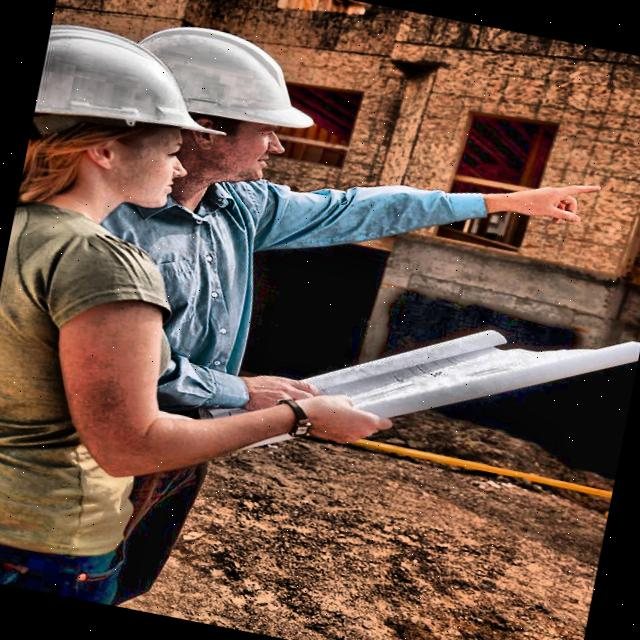helmet: (19, 19, 246, 234), (100, 8, 326, 208)
